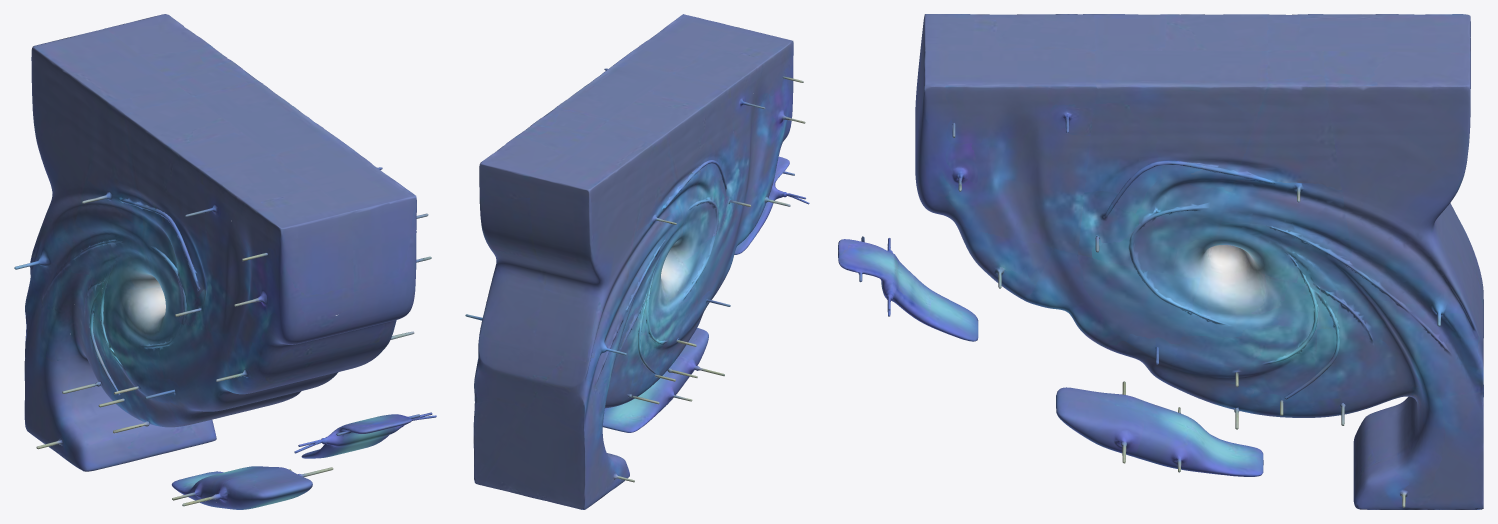
Rendered from galaxy.glb.
The picture shows the model from 3 angles, left to right: view 1: azimuth 30°, elevation 25°; view 2: azimuth 150°, elevation 25°; view 3: azimuth 270°, elevation 25°; orthographic projection. The views are drawn at different scales.
Visible parts, largest first — view 1: tripo_node_efc6d1ff-6129-4c25-bc18-9b25ed982ae1; view 2: tripo_node_efc6d1ff-6129-4c25-bc18-9b25ed982ae1; view 3: tripo_node_efc6d1ff-6129-4c25-bc18-9b25ed982ae1.
Part boxes in pixels (<box>): tripo_node_efc6d1ff-6129-4c25-bc18-9b25ed982ae1: <box>14,14,436,509</box>; tripo_node_efc6d1ff-6129-4c25-bc18-9b25ed982ae1: <box>465,14,809,509</box>; tripo_node_efc6d1ff-6129-4c25-bc18-9b25ed982ae1: <box>838,14,1483,509</box>.
Size of the model in its own units: 0.3793 by 0.7117 by 0.9816.
Materials: 1 (1 with a texture image).
